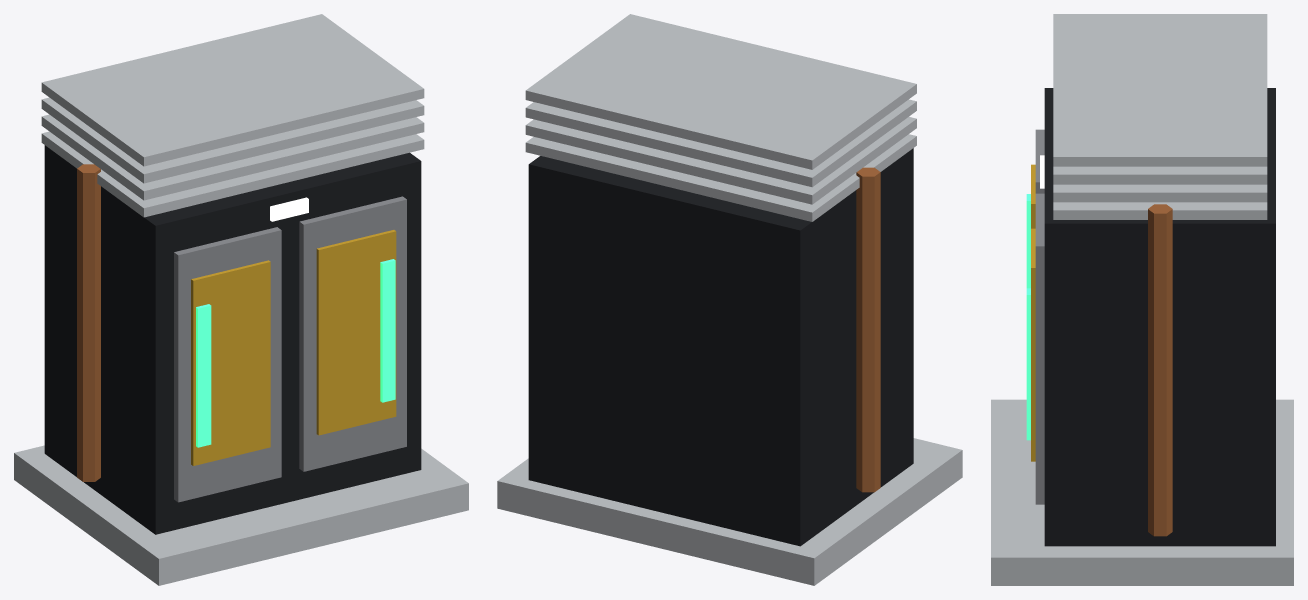
File: cabin-autonav-conjunction.glb
3 views of the same model, side by side, from view 1: azimuth 30°, elevation 25°; view 2: azimuth 150°, elevation 25°; view 3: azimuth 270°, elevation 25° (orthographic). The views are drawn at different scales.
Visible parts, largest first — view 1: CabinAutonavConjunction_Aluminum, CabinAutonavConjunction_HullBlack, CabinAutonavConjunction_FoilGold, CabinAutonavConjunction_Titanium, CabinAutonavConjunction_Copper, CabinAutonavConjunction_LedGreen, CabinAutonavConjunction_Lamp; view 2: CabinAutonavConjunction_HullBlack, CabinAutonavConjunction_Aluminum, CabinAutonavConjunction_Copper; view 3: CabinAutonavConjunction_HullBlack, CabinAutonavConjunction_Aluminum, CabinAutonavConjunction_Copper, CabinAutonavConjunction_Titanium, CabinAutonavConjunction_FoilGold, CabinAutonavConjunction_LedGreen.
Part boxes in pixels (<box>): CabinAutonavConjunction_Aluminum: <box>14,14,468,585</box>; CabinAutonavConjunction_HullBlack: <box>44,145,421,534</box>; CabinAutonavConjunction_FoilGold: <box>191,230,396,465</box>; CabinAutonavConjunction_Titanium: <box>174,196,406,502</box>; CabinAutonavConjunction_Copper: <box>77,164,100,481</box>; CabinAutonavConjunction_LedGreen: <box>196,259,395,447</box>; CabinAutonavConjunction_Lamp: <box>270,197,308,221</box>; CabinAutonavConjunction_HullBlack: <box>528,148,913,546</box>; CabinAutonavConjunction_Aluminum: <box>497,14,962,585</box>; CabinAutonavConjunction_Copper: <box>856,167,880,492</box>; CabinAutonavConjunction_HullBlack: <box>1044,88,1275,546</box>; CabinAutonavConjunction_Aluminum: <box>991,14,1293,585</box>; CabinAutonavConjunction_Copper: <box>1148,204,1172,536</box>; CabinAutonavConjunction_Titanium: <box>1035,129,1044,504</box>; CabinAutonavConjunction_FoilGold: <box>1031,164,1035,461</box>; CabinAutonavConjunction_LedGreen: <box>1026,194,1030,440</box>.
Size of the model in its own units: 0.42 by 0.522 by 0.34.
